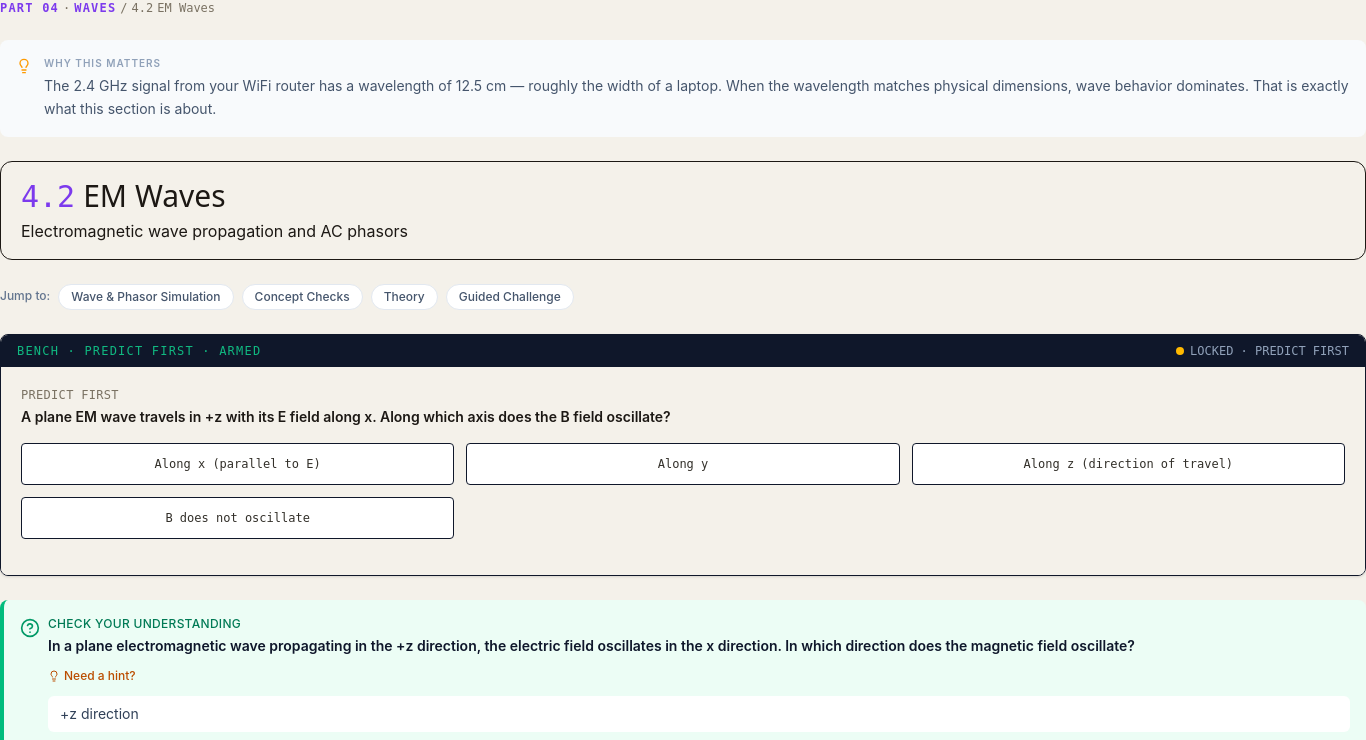
em-wave V/I phase sliders carry the degree unit › renders the V Phase value with ° once the phasor view is open
# Pass the blocking prediction gate (B ⟂ E along y), then reveal the sim.
Step 1. Click the button "Along y" → x=683, y=464, box [466,442,900,484]
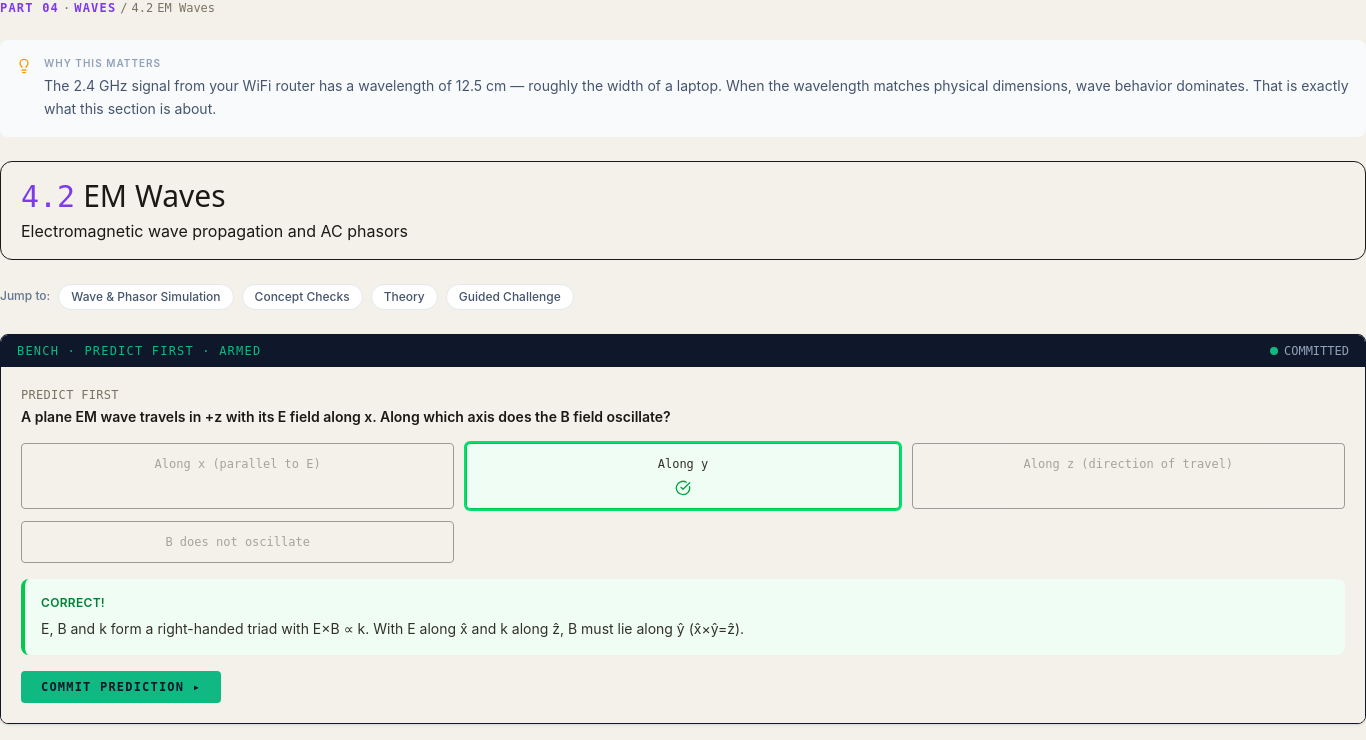
Step 2. Click the button "COMMIT PREDICTION ▸" → x=121, y=686, box [21,670,221,702]
(page scrolled)
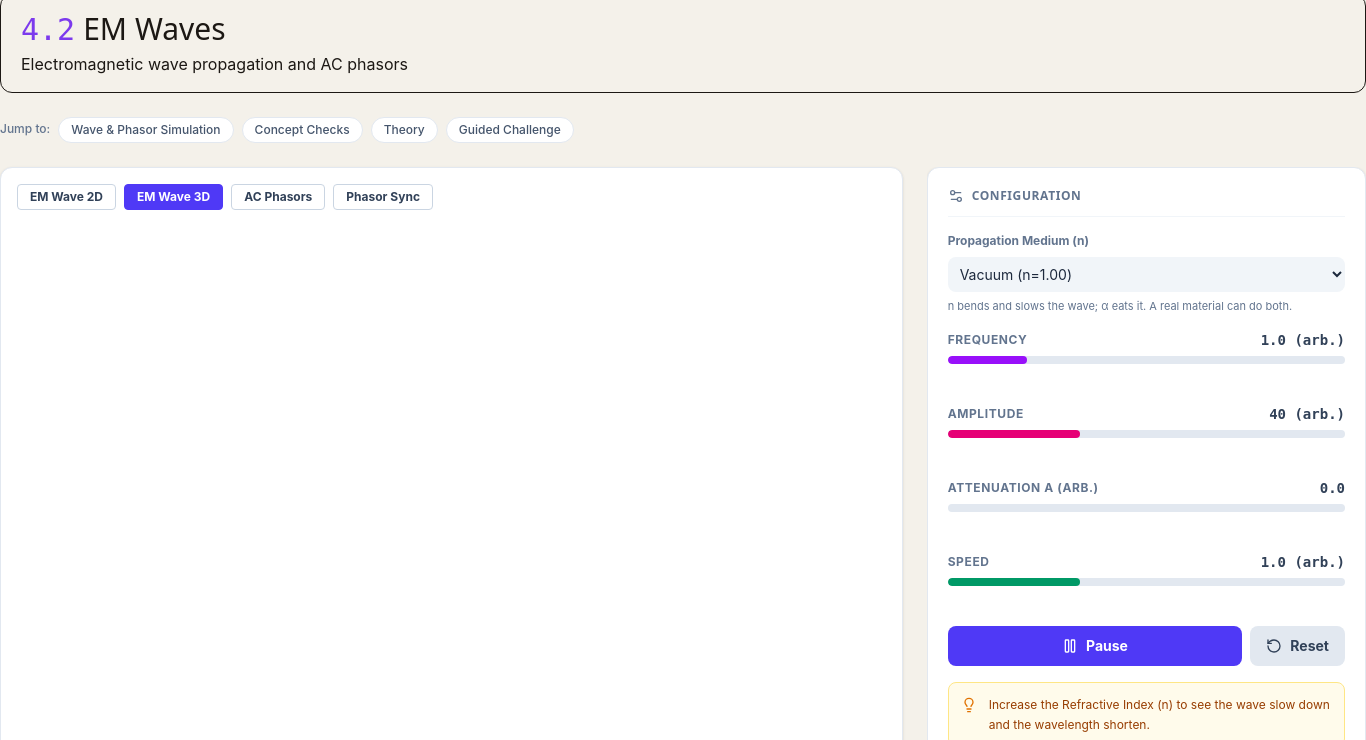
# Switch to the AC Phasors view where the V/I Phase sliders live.
Step 3. Click the button "AC Phasors" → x=278, y=196, box [231,184,325,210]
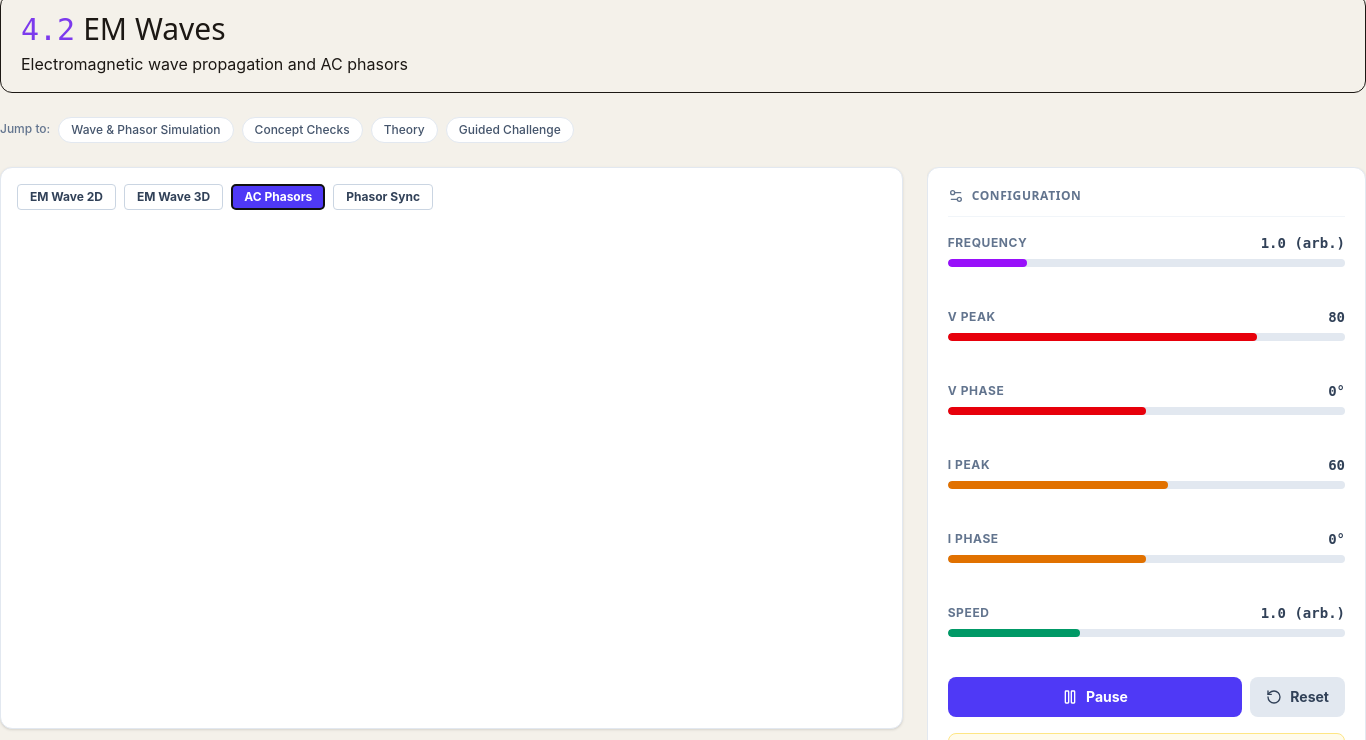
Step 4. Set the slider labelled "V Phase" to "45" → x=976, y=390, box [948,382,1345,414]
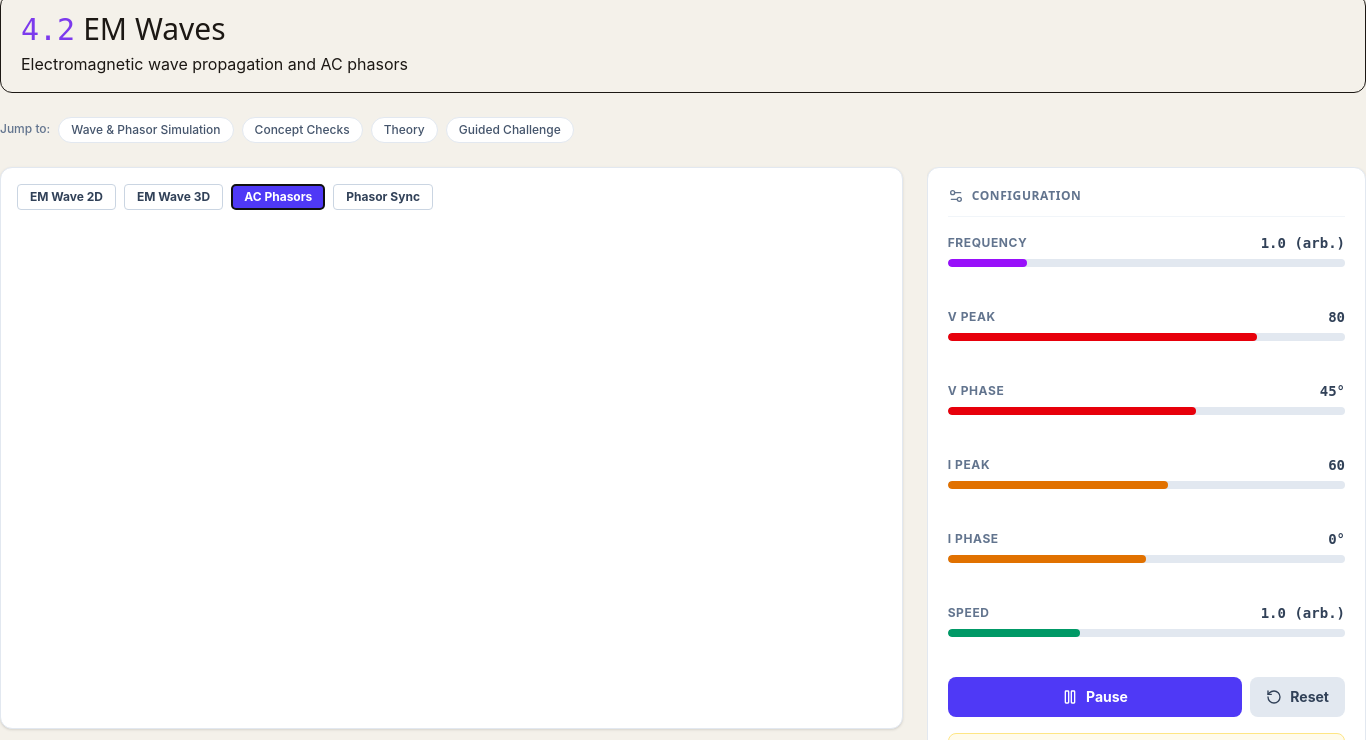
Expected: the text "45°" is shown, [1320,380,1345,400]
